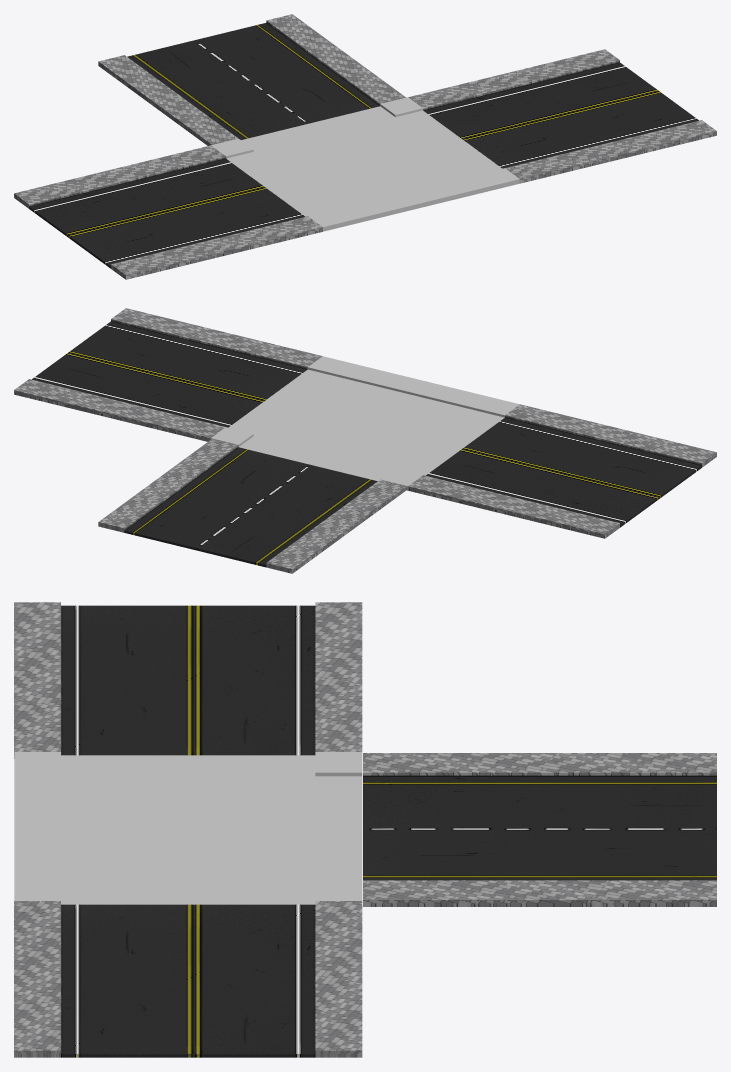
Rendered from t intersection road (1).fbx.
3 views of the same model, one above another, from view 1: azimuth 30°, elevation 25°; view 2: azimuth 150°, elevation 25°; view 3: azimuth 270°, elevation 25° (orthographic). The views are drawn at different scales.
Visible parts, largest first — view 1: polySurface1, straight_road_double_yellow:polySurface1, polySurface2, straight_road4:polySurface1; view 2: polySurface1, straight_road4:polySurface1, straight_road_double_yellow:polySurface1, polySurface2; view 3: straight_road4:polySurface1, straight_road_double_yellow:polySurface1, polySurface1, polySurface2.
Part boxes in pixels (x1=…): polySurface1: x1=14, y1=145, x2=322, y2=279; straight_road_double_yellow:polySurface1: x1=408, y1=49, x2=716, y2=183; polySurface2: x1=211, y1=97, x2=519, y2=231; straight_road4:polySurface1: x1=98, y1=14, x2=405, y2=145; polySurface1: x1=408, y1=404, x2=716, y2=538; straight_road4:polySurface1: x1=98, y1=438, x2=406, y2=573; straight_road_double_yellow:polySurface1: x1=14, y1=308, x2=322, y2=441; polySurface2: x1=211, y1=356, x2=519, y2=490; straight_road4:polySurface1: x1=363, y1=753, x2=716, y2=906; straight_road_double_yellow:polySurface1: x1=14, y1=901, x2=362, y2=1057; polySurface1: x1=14, y1=602, x2=362, y2=758; polySurface2: x1=14, y1=751, x2=362, y2=904.
Bounding box in the file's own units: 27.13 × 0.2 × 17.97.
